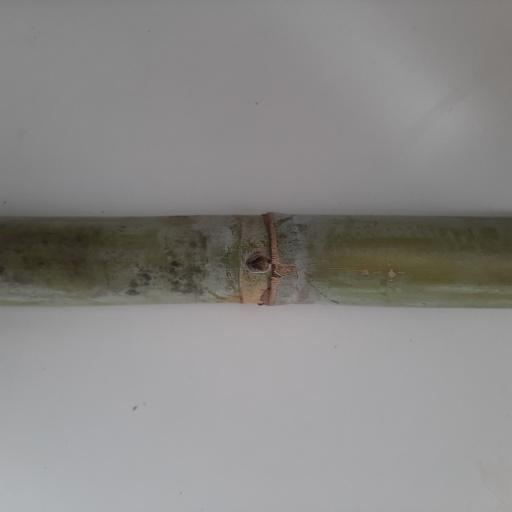Bud: (246, 253, 271, 272)
